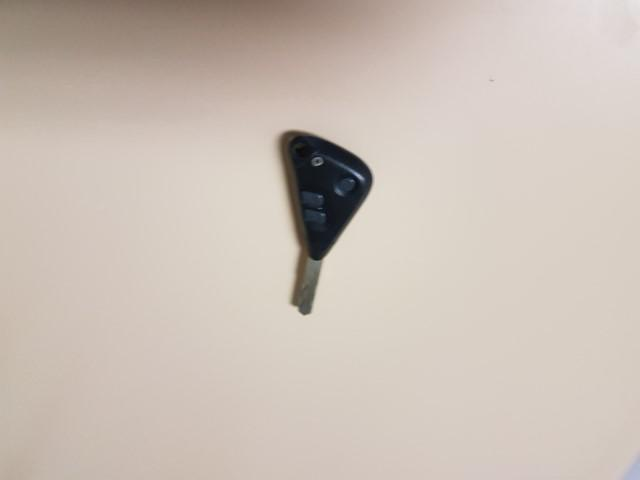key: (291, 132, 372, 315)
